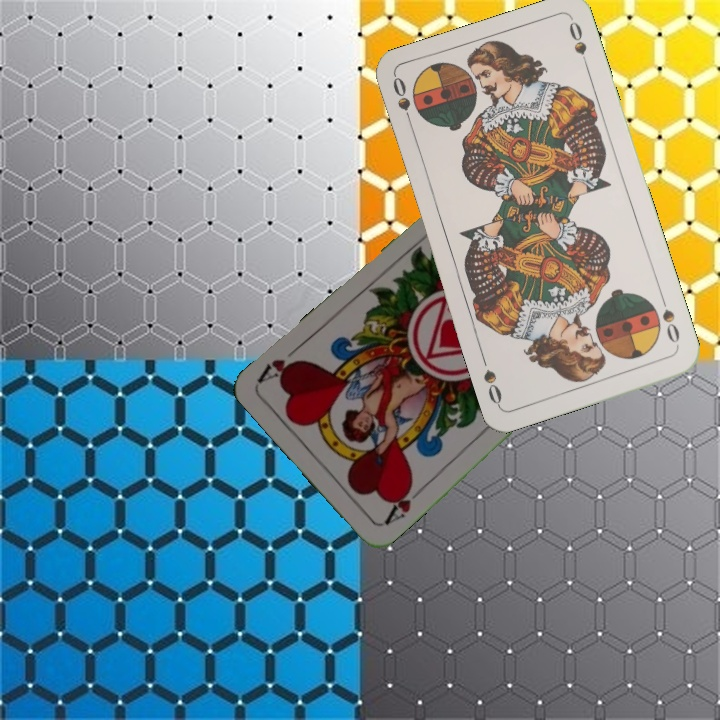HA: (380, 478, 427, 528)
SO: (389, 73, 416, 131), (657, 292, 682, 346)
